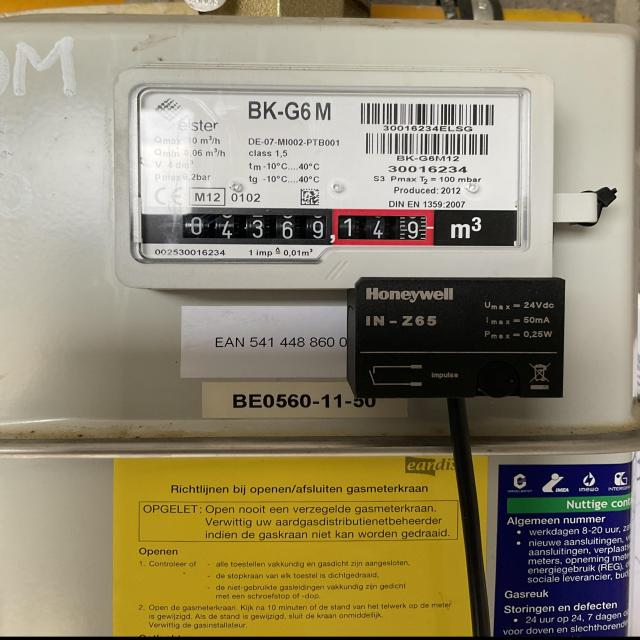gaz_meter: (132, 84, 530, 252)
indication: (165, 209, 430, 247)
